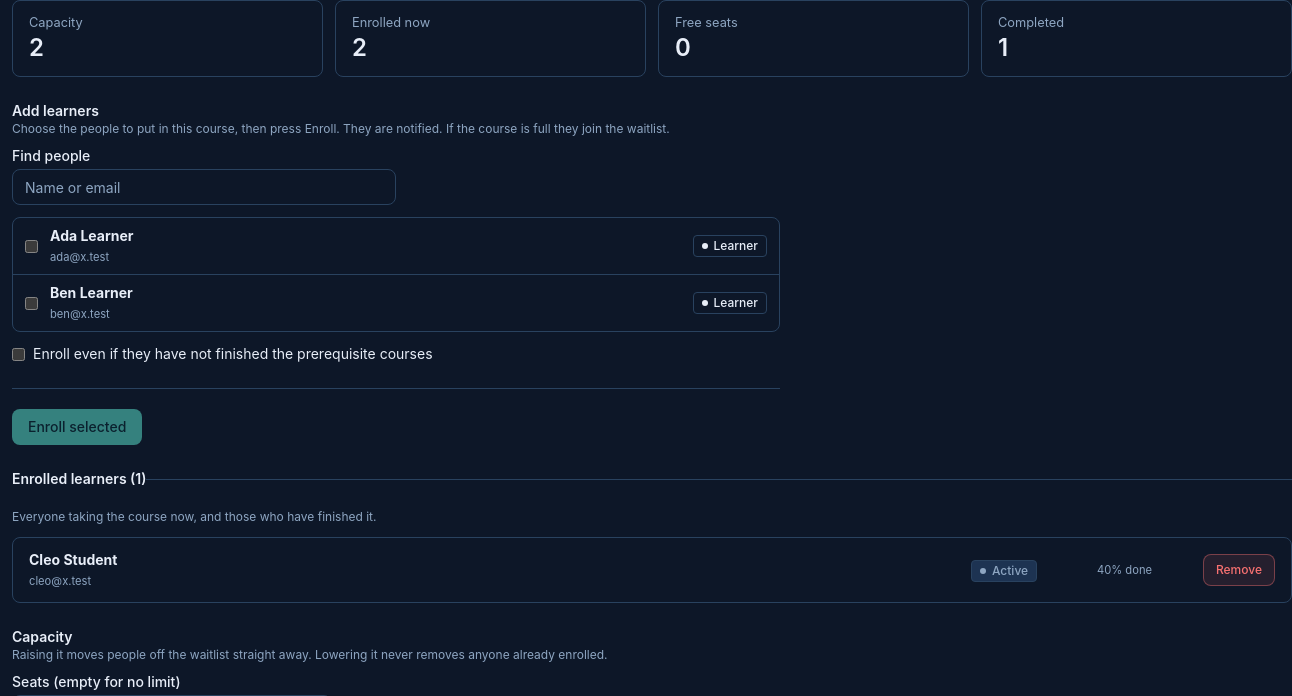
adding learners to a course › searches the people offered as you type
Expected: the list named "People who can be added" is shown, [12,217,780,332]
Type "ben" into the search field labelled "Find people" at {"x": 204, "y": 187}, box [12,169,396,205]
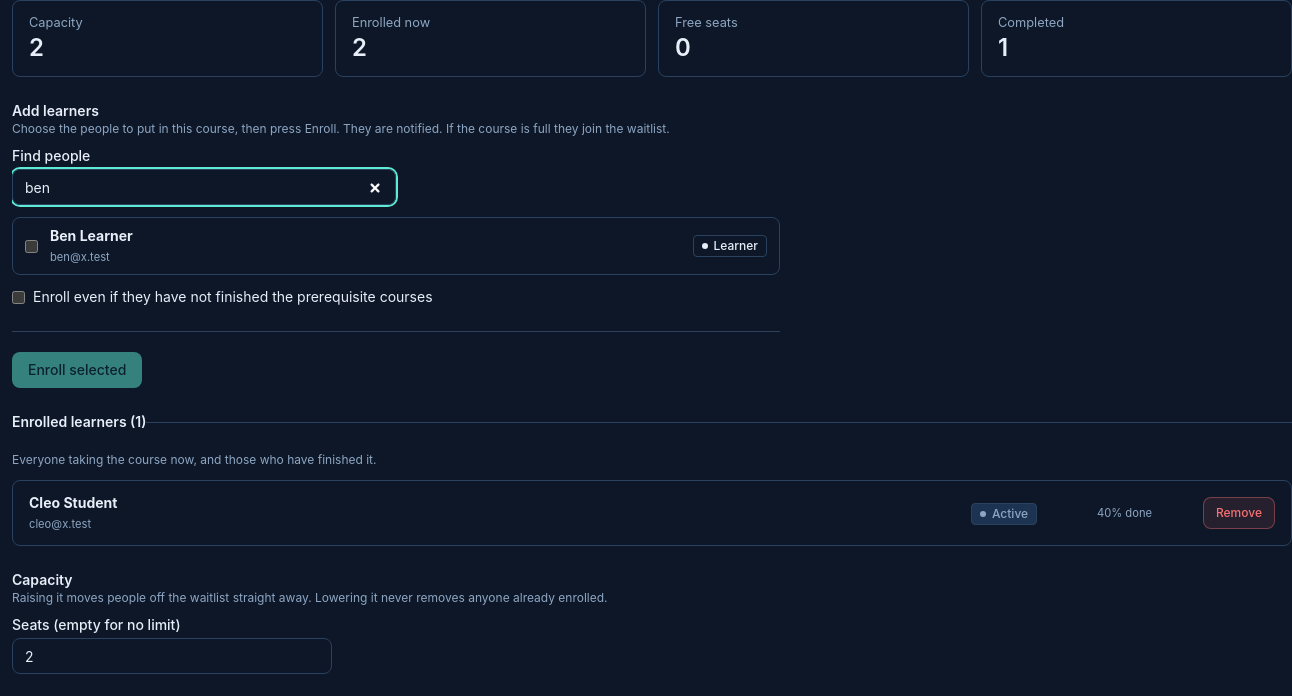
Expected: the text "Ben Learner" is shown, [50,227,133,244]
Expected: the text "Ada Learner" is gone
